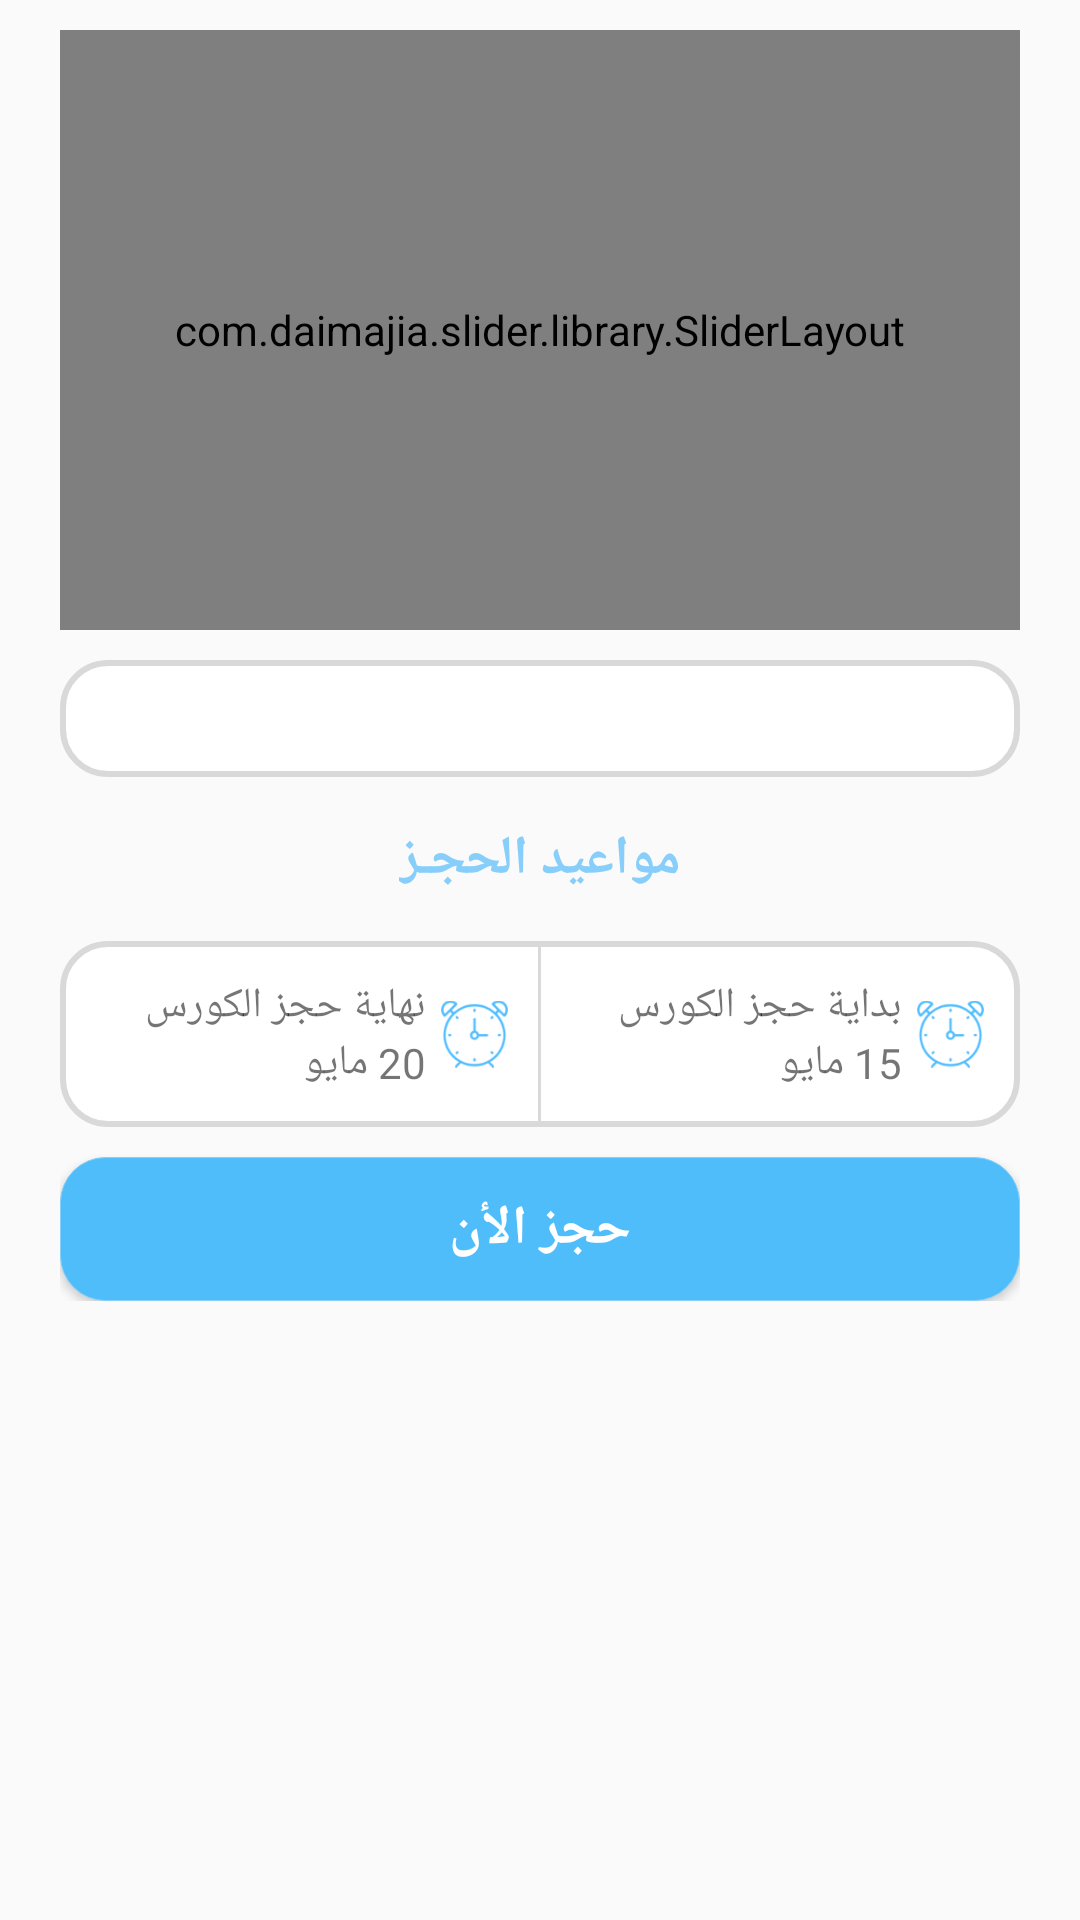

Where icons sit on this 1080 × 1920 app screen, as (x1, y1, x2, y2):
clock: (441, 1001, 508, 1068), (917, 1001, 984, 1068)
